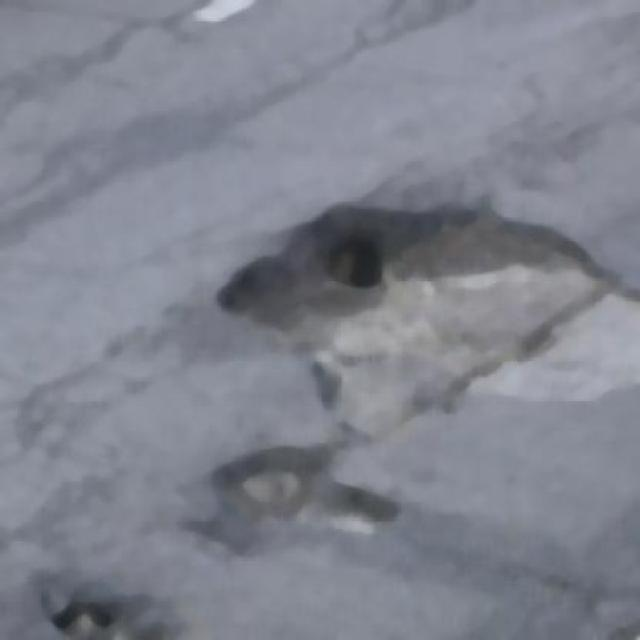Pothole: (278, 198, 476, 290)
